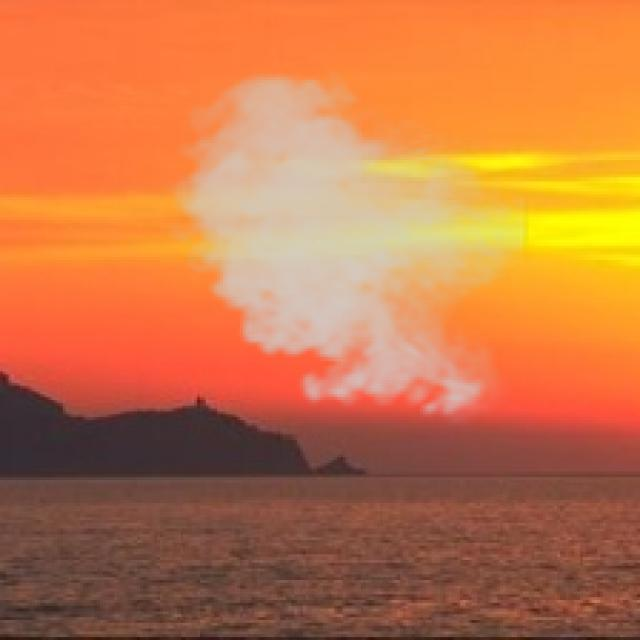smoke: (160, 66, 529, 428)
